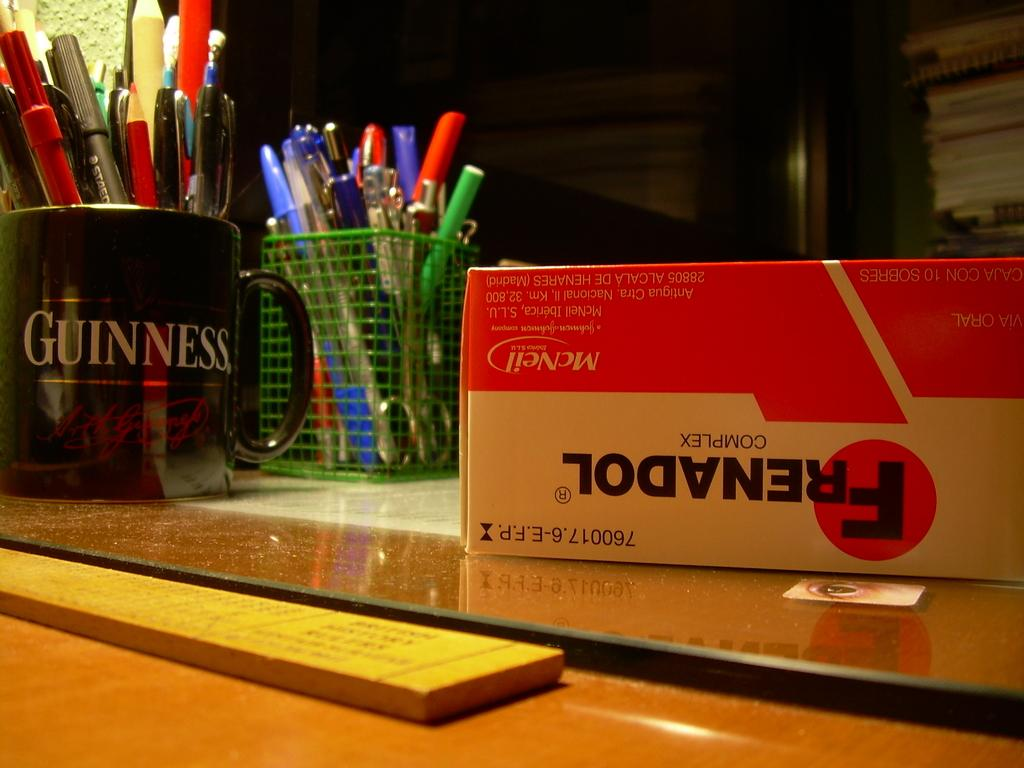pen: (259, 145, 366, 474), (324, 120, 397, 401), (1, 24, 86, 221), (65, 30, 140, 223), (193, 81, 242, 232), (144, 82, 189, 226), (406, 108, 459, 228), (346, 122, 387, 244), (391, 122, 423, 241), (175, 0, 215, 93)
